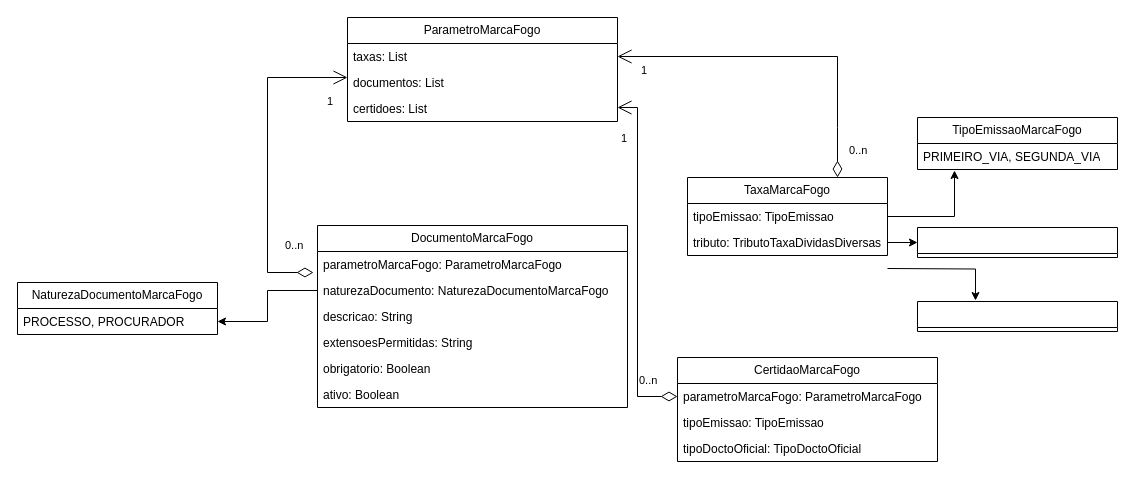
Image size: 1135x482. Some labels were removed from this diagram. Here are the shapes that lost their labels. From the top down, the centre of each, then its label:
At [1017,242]: "TributoTaxaDividasDiversas".
At [1017,316]: "TipoDoctoOficial".
